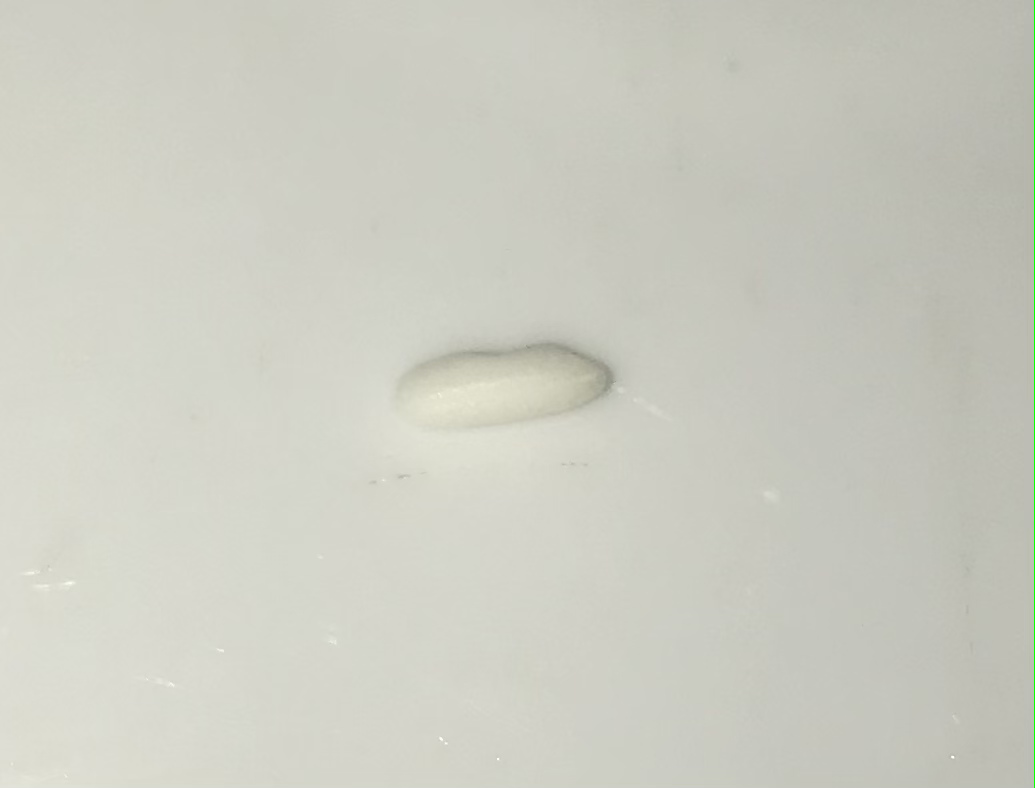Gao Nep Sap: (389, 341, 617, 433)
